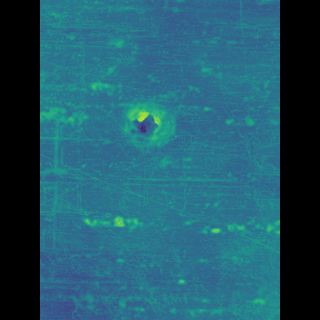Loch: (135, 102, 165, 146)
